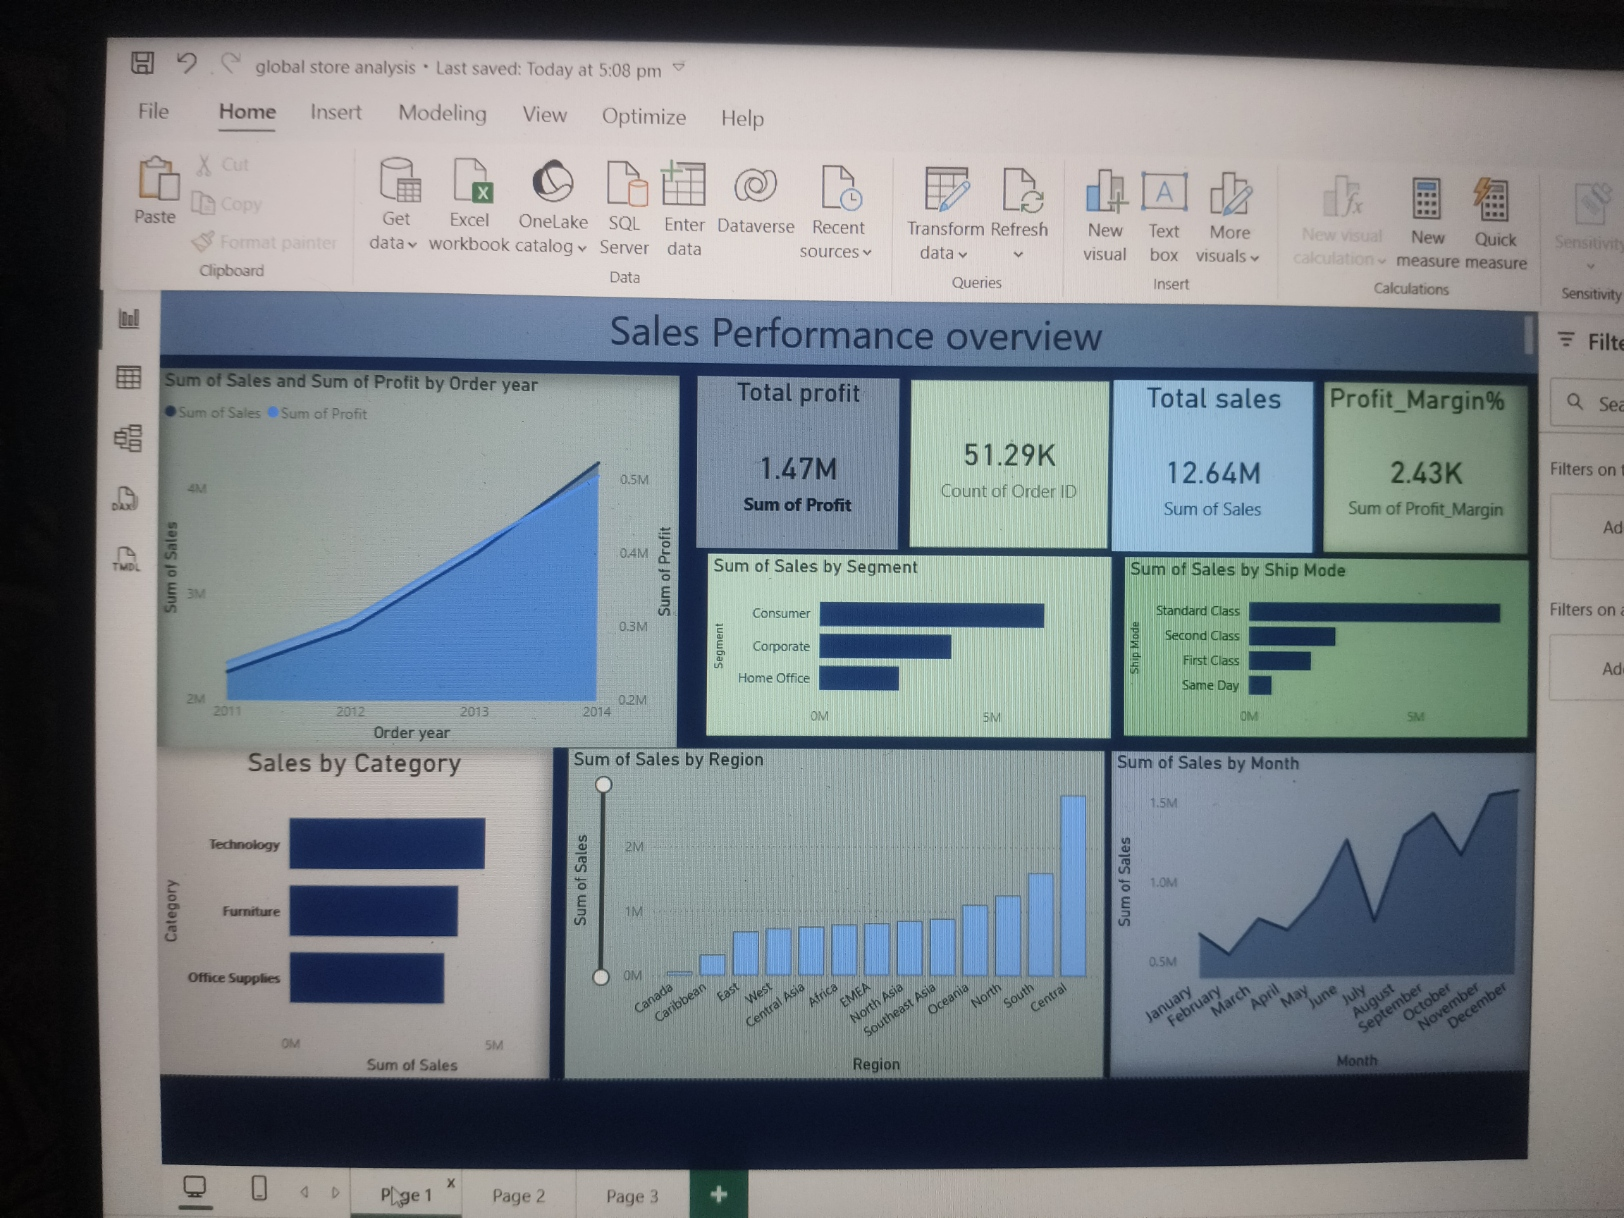

The page's visual inventory and layout, read from the dashboard file:
{"tool":"powerbi","page":{"name":"Page 1","canvas":[1280,720],"ordinal":0},"visuals":[{"type":"areaChart","fields":{"Category":["cleaned_superstore_data.Order Date.Variation.Date Hierarchy.Year","cleaned_superstore_data.Order Date.Variation.Date Hierarchy.Quarter","cleaned_superstore_data.Order Date.Variation.Date Hierarchy.Month","cleaned_superstore_data.Order Date.Variation.Date Hierarchy.Day"],"Y":["Sum(cleaned_superstore_data.Sales)"]},"box":[875.5,415.8,404.8,304.6],"z":0},{"type":"clusteredBarChart","title":"Sales by Category","fields":{"Category":["cleaned_superstore_data.Category"],"Y":["Sum(cleaned_superstore_data.Sales)"]},"box":[0,415.8,359.5,304.6],"z":1000},{"type":"clusteredColumnChart","fields":{"Category":["cleaned_superstore_data.Region"],"Y":["Sum(cleaned_superstore_data.Sales)"]},"box":[371.9,415.8,499.5,304.6],"z":3000},{"type":"textbox","box":[0,0,1280.3,59],"z":4000},{"type":"card","title":"Profit_Margin%","fields":{"Values":["Sum(cleaned_superstore_data.Profit_Margin)"]},"box":[1071.7,70,199,160.5],"z":5000},{"type":"card","fields":{"Values":["CountNonNull(cleaned_superstore_data.Order ID)"]},"box":[687.5,72.7,183.9,155.1],"z":6000},{"type":"card","title":"Total profit","fields":{"Values":["Sum(cleaned_superstore_data.Profit)"]},"box":[488.5,71.4,188,159.2],"z":7000},{"type":"card","title":"Total  sales","fields":{"Values":["Sum(cleaned_superstore_data.Sales)"]},"box":[875.5,71.4,186.6,159.2],"z":8000},{"type":"clusteredBarChart","fields":{"Category":["cleaned_superstore_data.Segment"],"Y":["Sum(cleaned_superstore_data.Sales)"]},"box":[499.5,236,376,168.8],"z":9000},{"type":"clusteredBarChart","fields":{"Category":["cleaned_superstore_data.Ship Mode"],"Y":["Sum(cleaned_superstore_data.Sales)"]},"box":[887.8,236,382.8,166],"z":10000},{"type":"areaChart","fields":{"Category":["cleaned_superstore_data.Order year"],"Y":["Sum(cleaned_superstore_data.Sales)"],"Y2":["Sum(cleaned_superstore_data.Profit)"]},"box":[0,71.4,472,344.4],"z":10001}]}

Visuals, with their boxes on the page's 1280x720 design canvas (x1, y1, x2, y2). These are canvas units, not pixel positions in the 1624x1218 screenshot, which may show the page scaled, cropped or inside an application window:
areaChart - cleaned_superstore_data.Order Date.Variation.Date Hierarchy.Year x cleaned_superstore_data.Order Date.Variation.Date Hierarchy.Quarter: [876,416,1280,720]
"Sales by Category" clusteredBarChart: [0,416,360,720]
clusteredColumnChart - cleaned_superstore_data.Region x Sum(cleaned_superstore_data.Sales): [372,416,871,720]
textbox: [0,0,1280,59]
"Profit_Margin%" card: [1072,70,1271,230]
card - CountNonNull(cleaned_superstore_data.Order ID): [688,73,871,228]
"Total profit" card: [488,71,676,231]
"Total  sales" card: [876,71,1062,231]
clusteredBarChart - cleaned_superstore_data.Segment x Sum(cleaned_superstore_data.Sales): [500,236,876,405]
clusteredBarChart - cleaned_superstore_data.Ship Mode x Sum(cleaned_superstore_data.Sales): [888,236,1271,402]
areaChart - cleaned_superstore_data.Order year x Sum(cleaned_superstore_data.Sales): [0,71,472,416]
